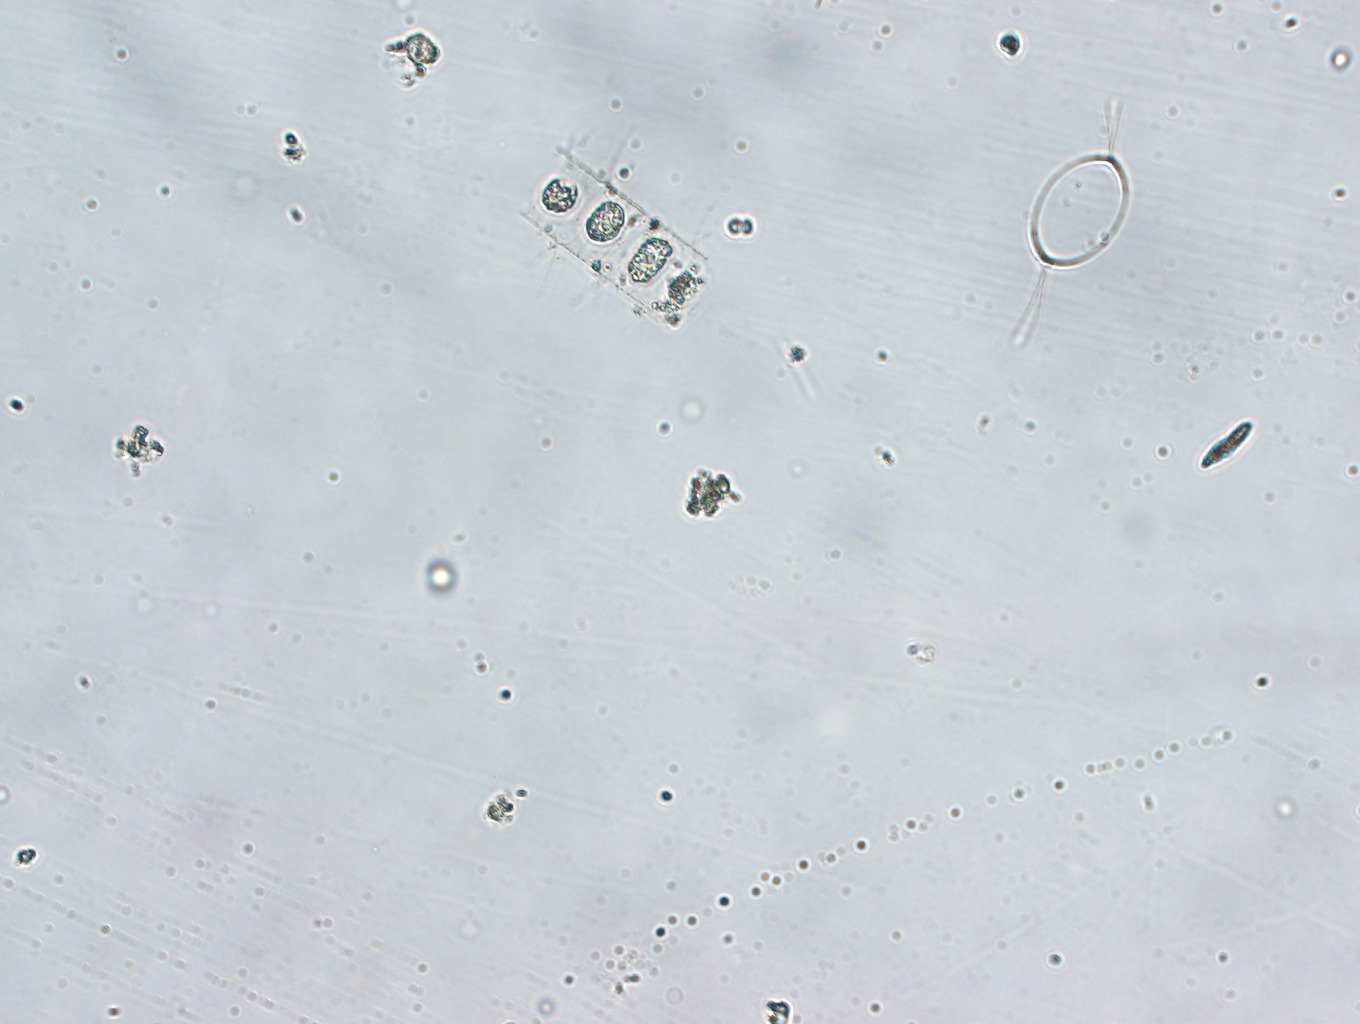chaetoceros: (495, 119, 726, 349), (1007, 75, 1135, 351)
